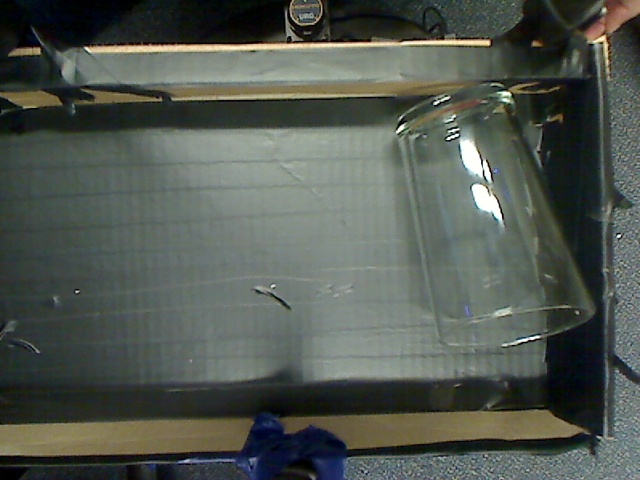cup: (380, 84, 606, 359)
